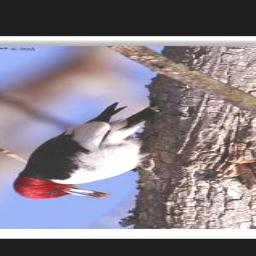Woodpecker: (11, 104, 161, 200)
